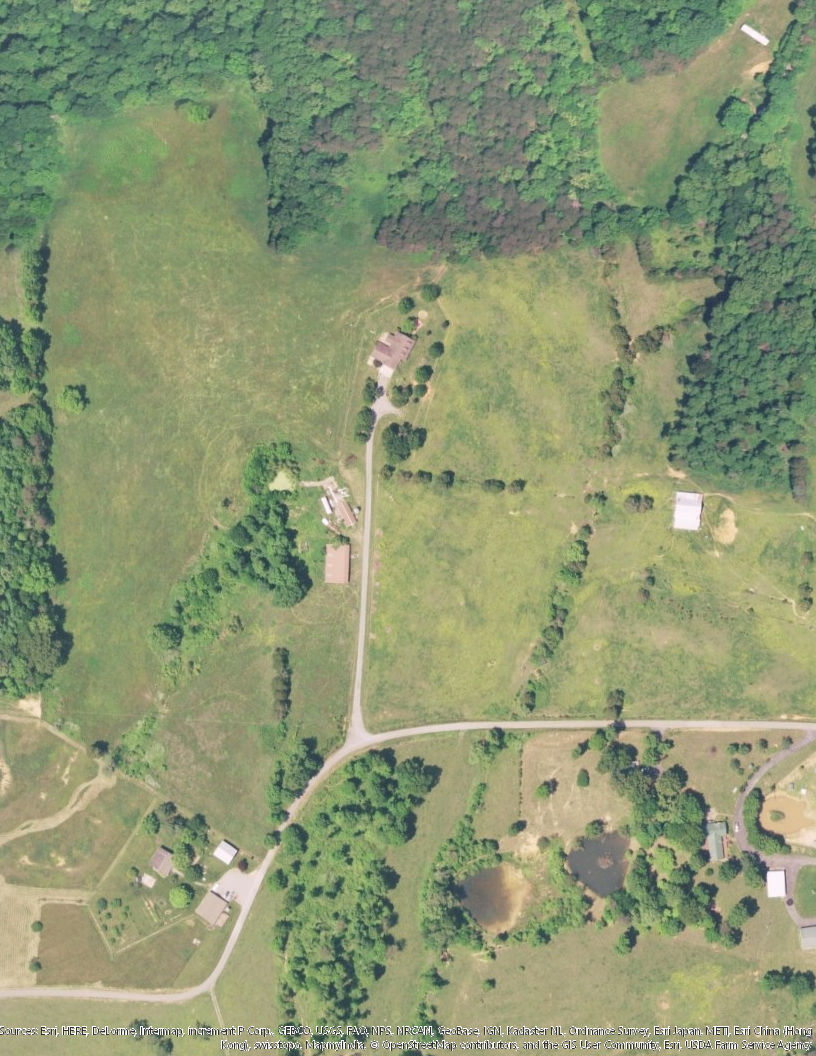cafo: (325, 484, 354, 531), (323, 543, 354, 586), (675, 489, 704, 534)
